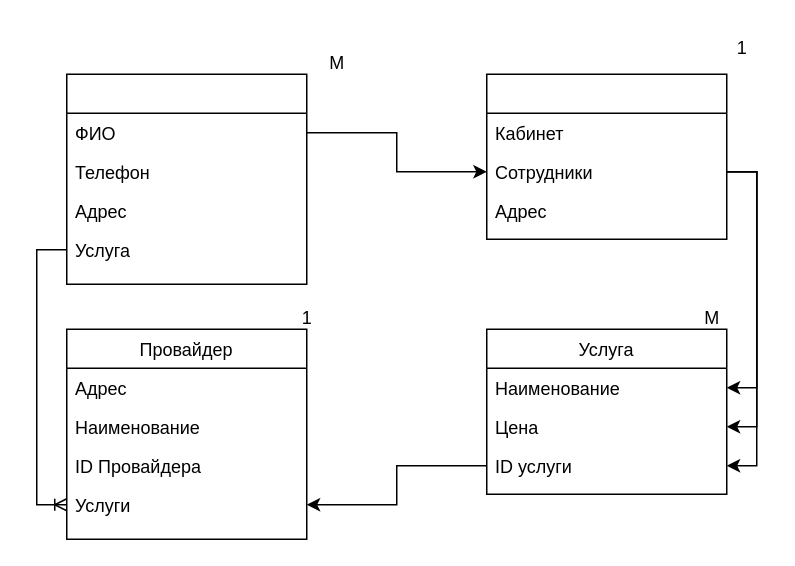
Some shapes in this 795 by 566 pixel diagram are drawn without their labels. The box of each missing label's shape, as (x1, y1, x2, y2) in pixels:
Клиенты: (65, 73, 307, 284)
Офис: (485, 73, 727, 239)
